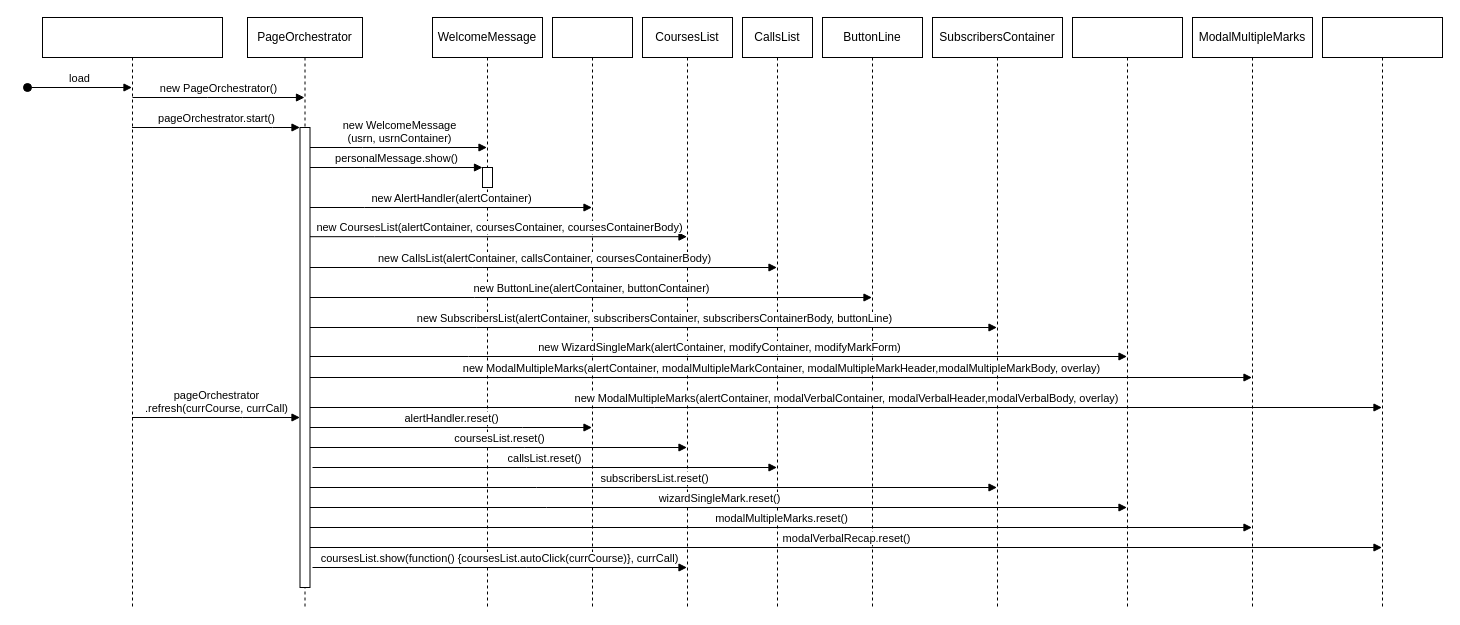
Some shapes in this 1460 by 625 pixel diagram are drawn without their labels. The shapes that lost their labels are listed below. From the top down, each one's box as (x1, y1, x2, y2) in pixels, then its label:
(42, 16, 222, 608): HomeLecturer.html + LecturerHomePageHandler.js
(552, 16, 632, 608): AlertHandler
(1072, 16, 1182, 608): WizardSingleMark
(1322, 16, 1442, 608): ModalVerbalRecap
